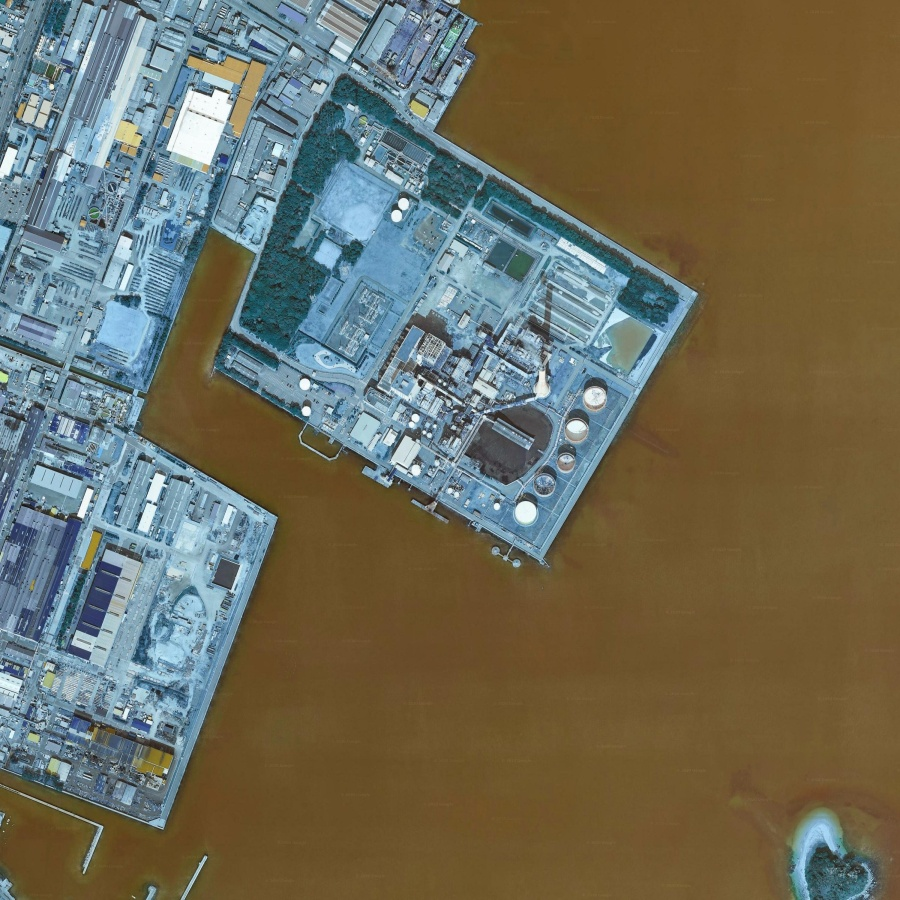PowerPlant: (293, 238, 662, 558)
